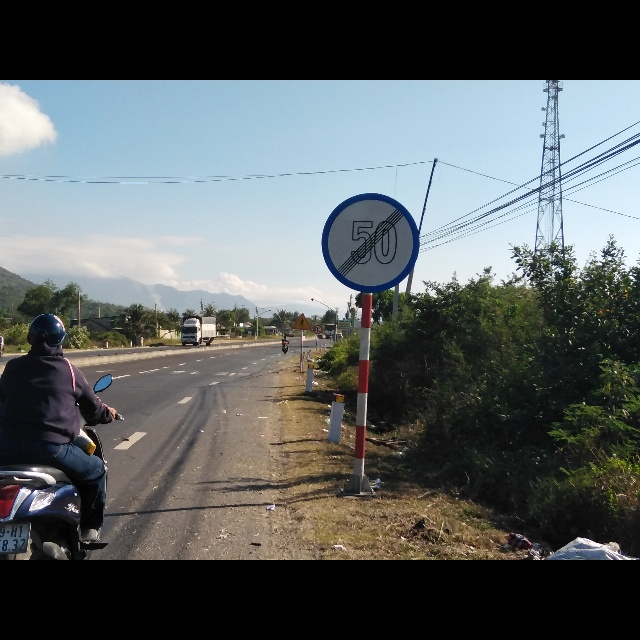Hết hạn chế tốc độ tối đa 50km/h: (319, 190, 422, 294)
